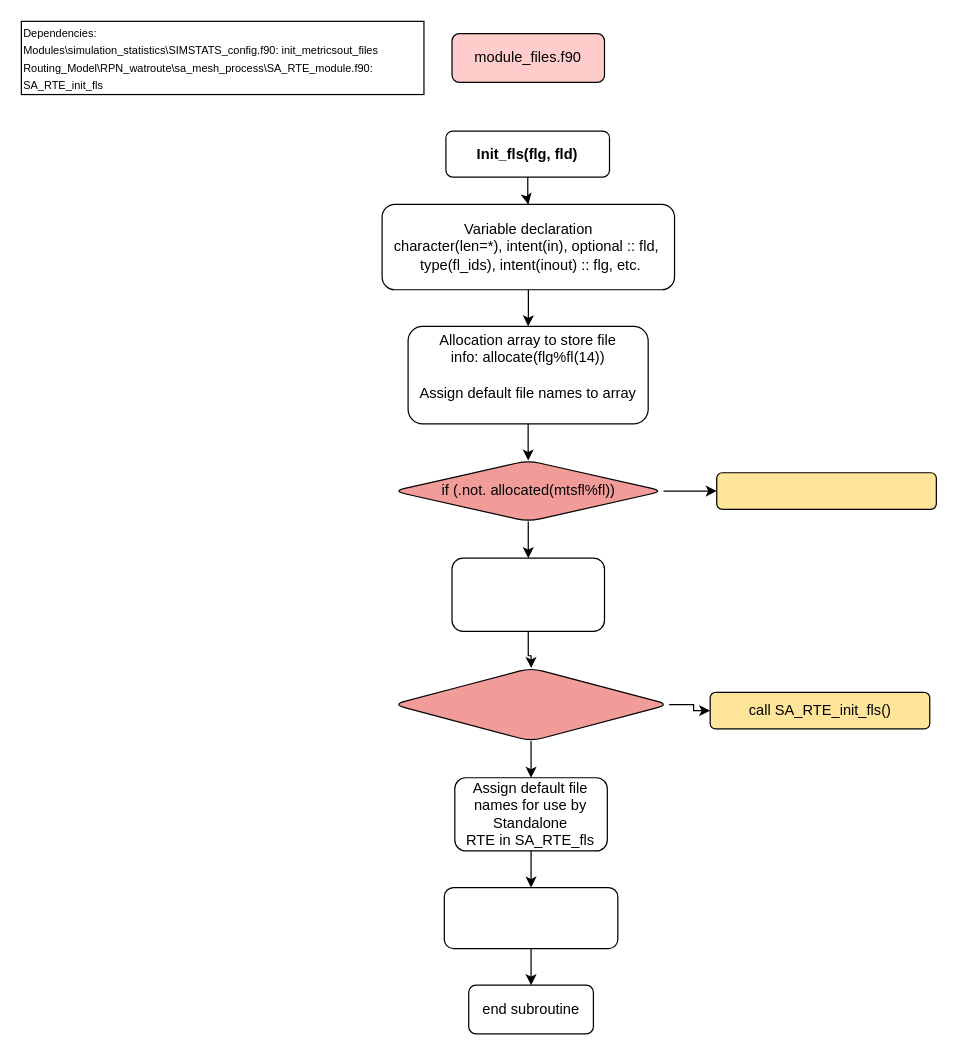
Image size: 958x1055. Some labels were removed from this diagram. Each missing label, with the box of its shape:
Assign default file names for use by SIMSTATS in mtsfl%fl: (451, 557, 605, 631)
call init_metricsout_files(): (716, 472, 936, 509)
if (.not. allocated(SA_RTE_fls%fl)): (392, 667, 669, 741)
Replace default file information with values from file in array flg%fl: (443, 886, 618, 949)
